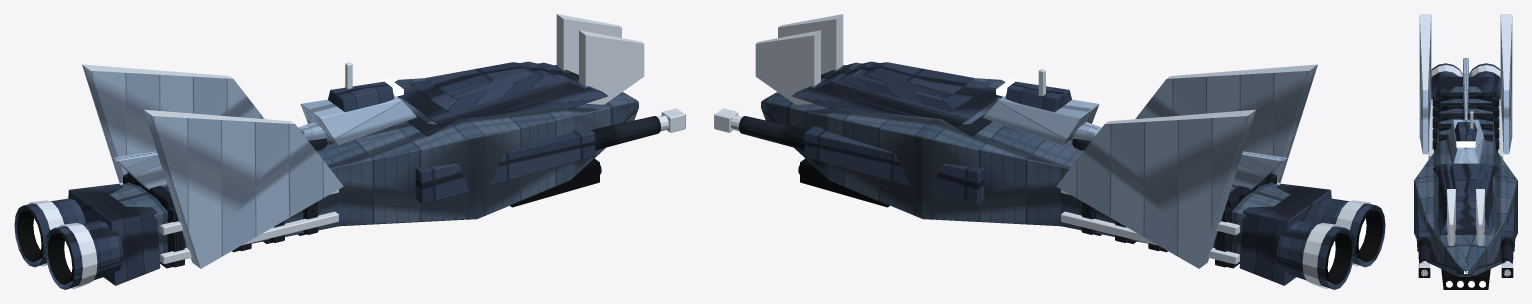
The model's file is destroyer.glb.
The picture shows the model from 3 angles, left to right: view 1: azimuth 30°, elevation 25°; view 2: azimuth 150°, elevation 25°; view 3: azimuth 270°, elevation 25°; orthographic projection. The views are drawn at different scales.
Parts seen in each view (by area): view 1: destroyer; view 2: destroyer; view 3: destroyer.
Part boxes in pixels (x1,y1,x2,y2): destroyer: [14, 14, 685, 289]; destroyer: [714, 14, 1385, 289]; destroyer: [1414, 14, 1517, 289].
Size of the model in its own units: 30 by 9.24 by 6.8.
1 material, 1 textured.
